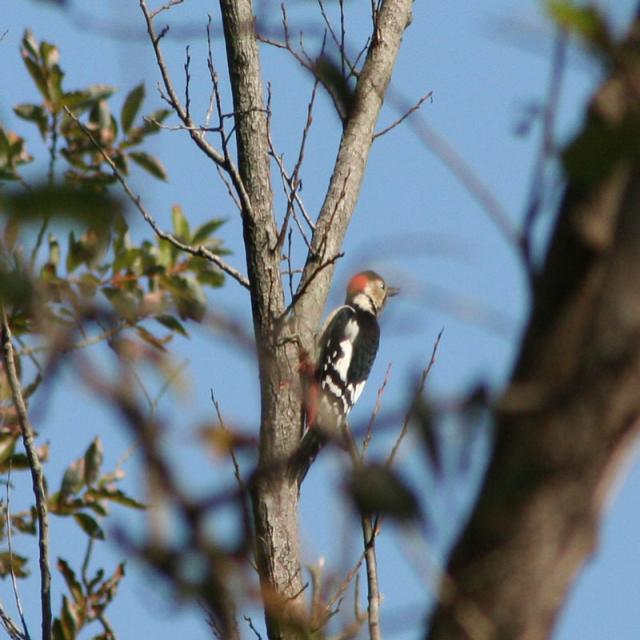bird: (309, 270, 400, 436)
